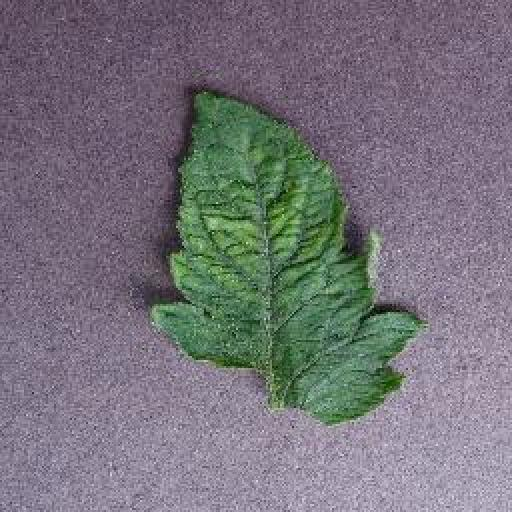disease_tomato: (150, 85, 432, 423)
